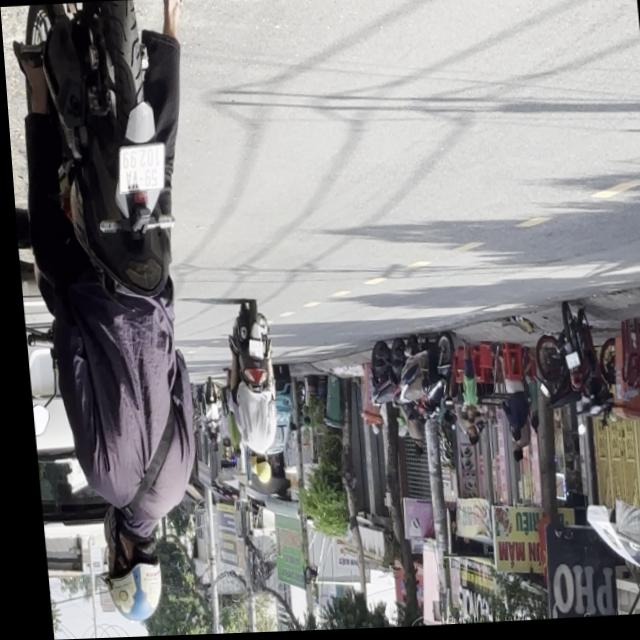helmet: (90, 513, 158, 624), (245, 455, 265, 486)
licenseplate: (0, 0, 226, 628), (214, 300, 279, 488)
nohelmet: (114, 145, 164, 193), (241, 339, 257, 360)
